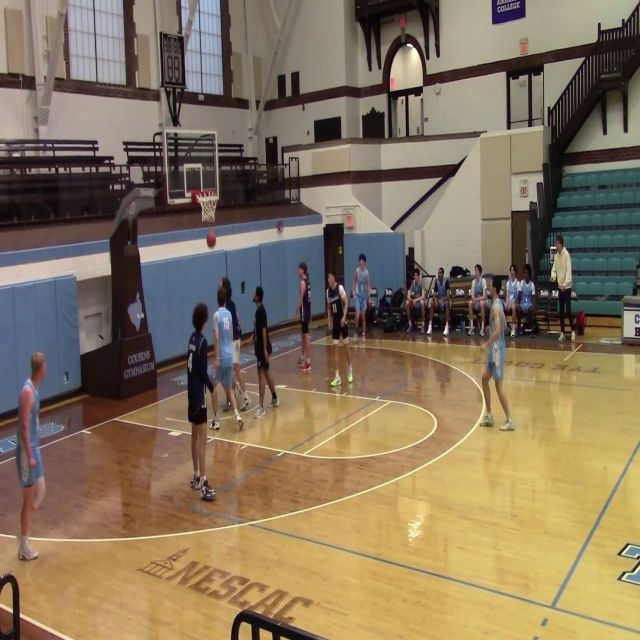Basketball: (207, 230, 216, 247)
